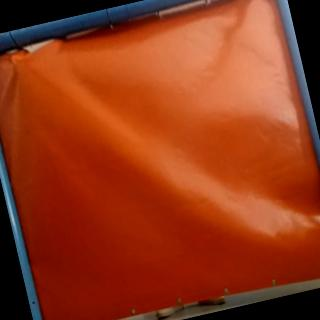Hit-hRxx: (4, 49, 24, 68)
